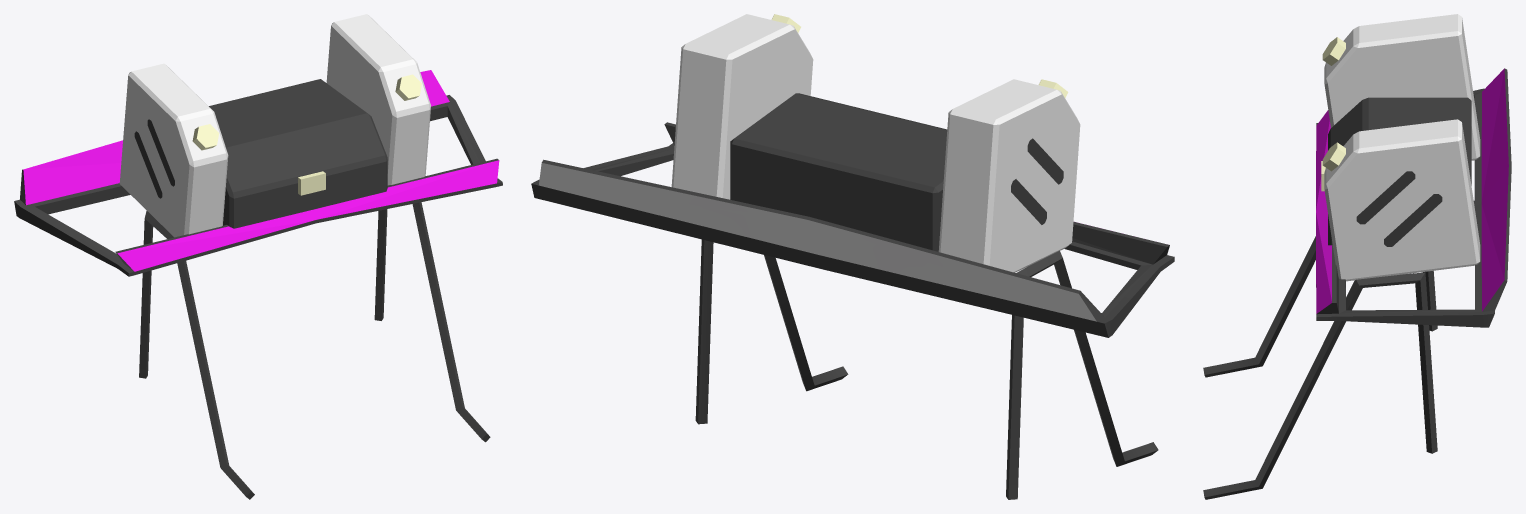
The model's file is JeepSpoiler01C04.gltf.
3 views of the same model, side by side, from view 1: azimuth 30°, elevation 25°; view 2: azimuth 150°, elevation 25°; view 3: azimuth 270°, elevation 25° (orthographic). The views are drawn at different scales.
Parts seen in each view (by area): view 1: JeepSpoiler01C04; view 2: JeepSpoiler01C04; view 3: JeepSpoiler01C04.
Part boxes in pixels (x1,y1,x2,y2): JeepSpoiler01C04: (14, 14, 502, 499); JeepSpoiler01C04: (531, 14, 1174, 499); JeepSpoiler01C04: (1203, 14, 1511, 499).
Bounding box in the file's own units: 0.1455 × 0.109 × 0.0838.
